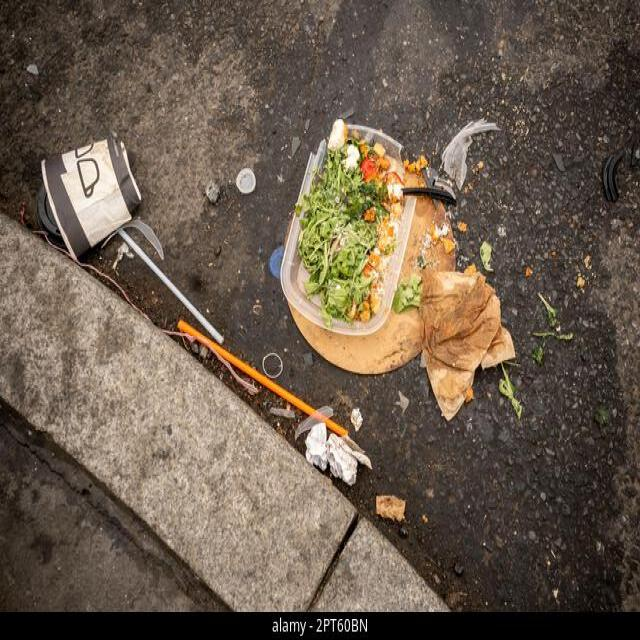Wet: (313, 134, 396, 304), (418, 264, 512, 408)
